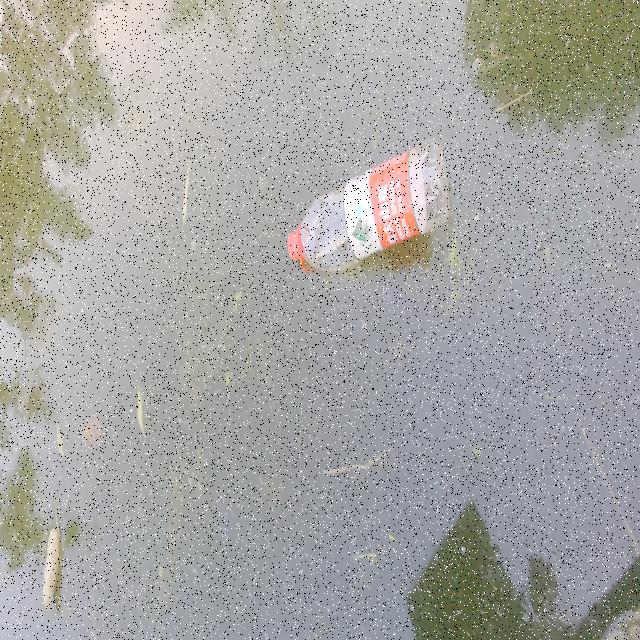Bottle: (285, 132, 452, 276)
